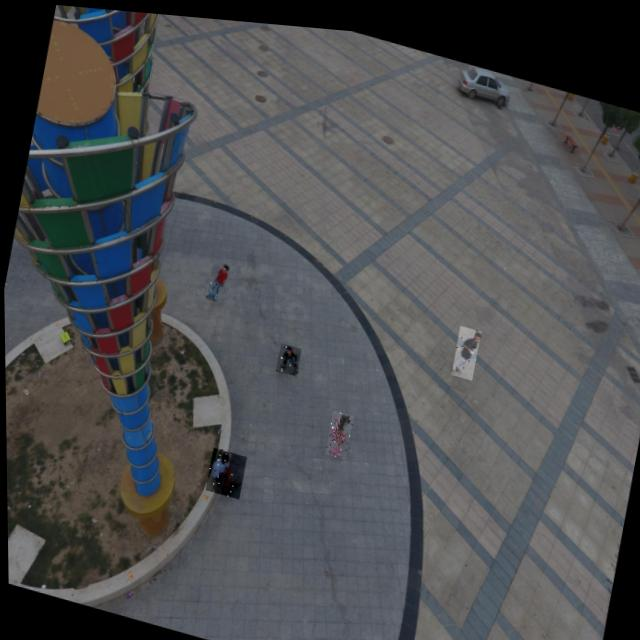Person: (203, 443, 246, 496), (450, 317, 480, 373), (323, 404, 353, 454), (205, 256, 229, 300), (275, 338, 301, 372)
